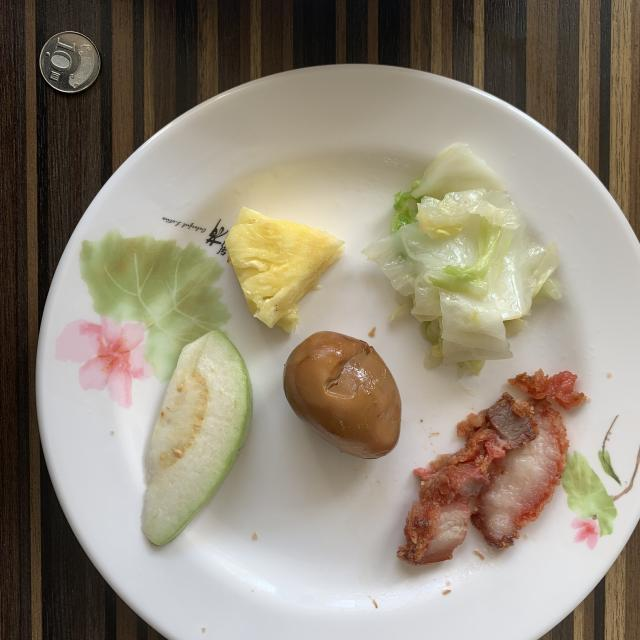cabbage: (364, 144, 561, 374)
coin: (40, 31, 100, 92)
guava -sliced-: (141, 331, 252, 545)
pineapple: (225, 208, 345, 332)
red grilled pork: (398, 370, 585, 565)
soy egg: (284, 331, 401, 459)
